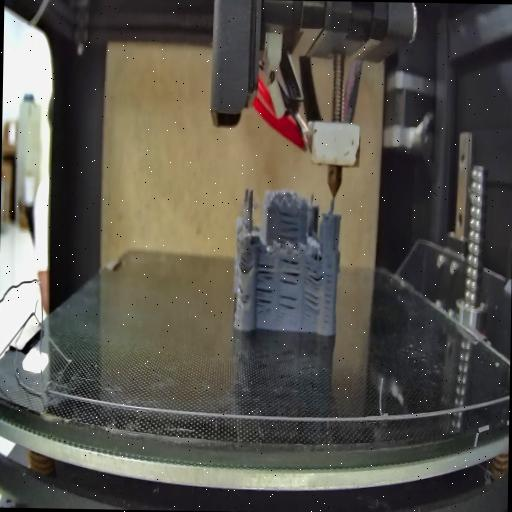cracks: (322, 240, 338, 328), (275, 206, 299, 246), (276, 258, 299, 286), (256, 286, 276, 318), (302, 290, 322, 312), (306, 259, 324, 283), (279, 292, 297, 314), (258, 258, 272, 284), (236, 252, 250, 276), (236, 285, 248, 305)
